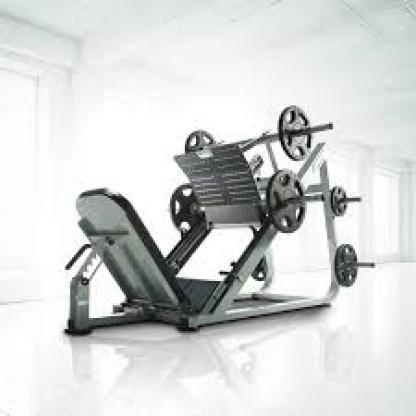leg press: (50, 76, 379, 355)
